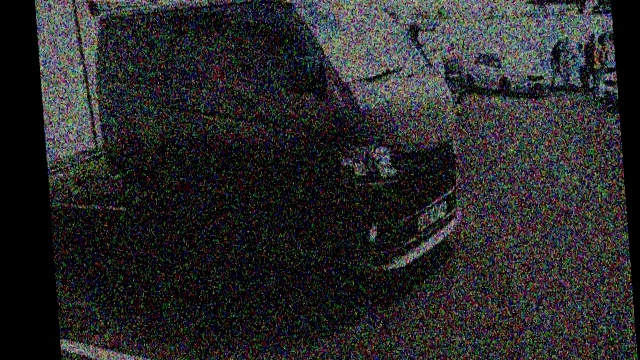van: (78, 0, 473, 294)
